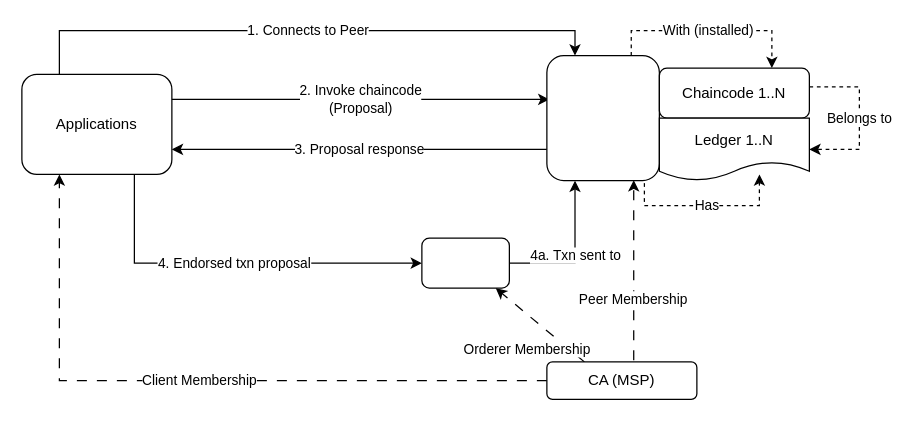
Some shapes in this 914 by 421 pixel diagram are drawn without their labels. The centre of each missing label's shape, as x and y in pixels:
"Orderer" belongs at pixel 465 262.
"Peer" belongs at pixel 602 117.
